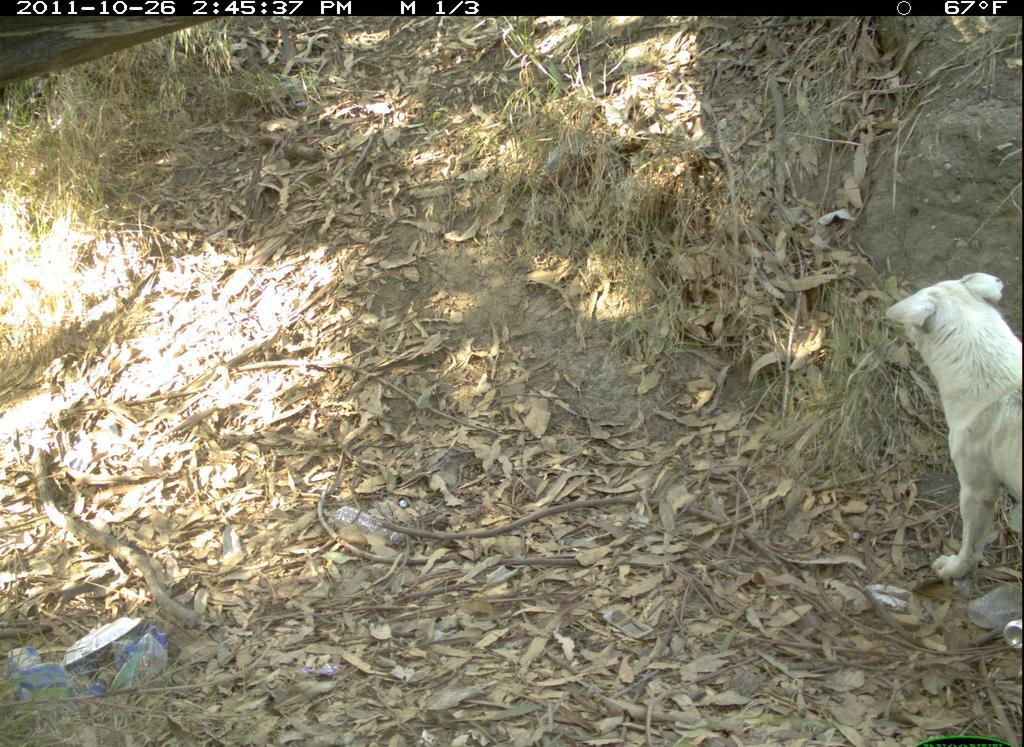dog: (882, 263, 1023, 653)
